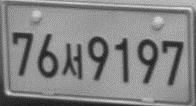1: (113, 37, 129, 84)
6: (36, 32, 59, 78)
7: (160, 39, 184, 87), (11, 30, 34, 77)
9: (136, 38, 158, 85), (87, 35, 109, 81)
서: (60, 41, 84, 80)
